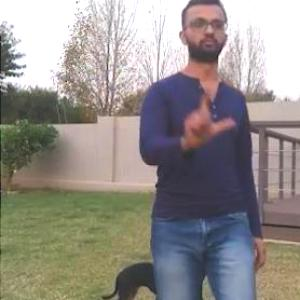land_hand: (182, 81, 238, 146)
